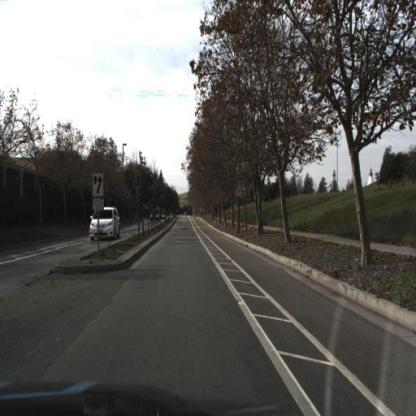car: (91, 206, 121, 244), (150, 212, 160, 224)
